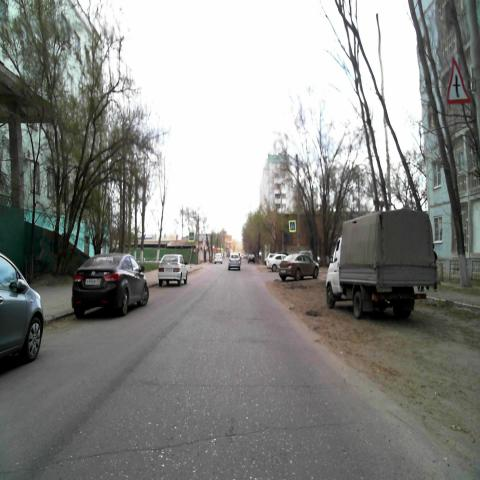5_19_1: (188, 230, 195, 243), (289, 219, 296, 232)
